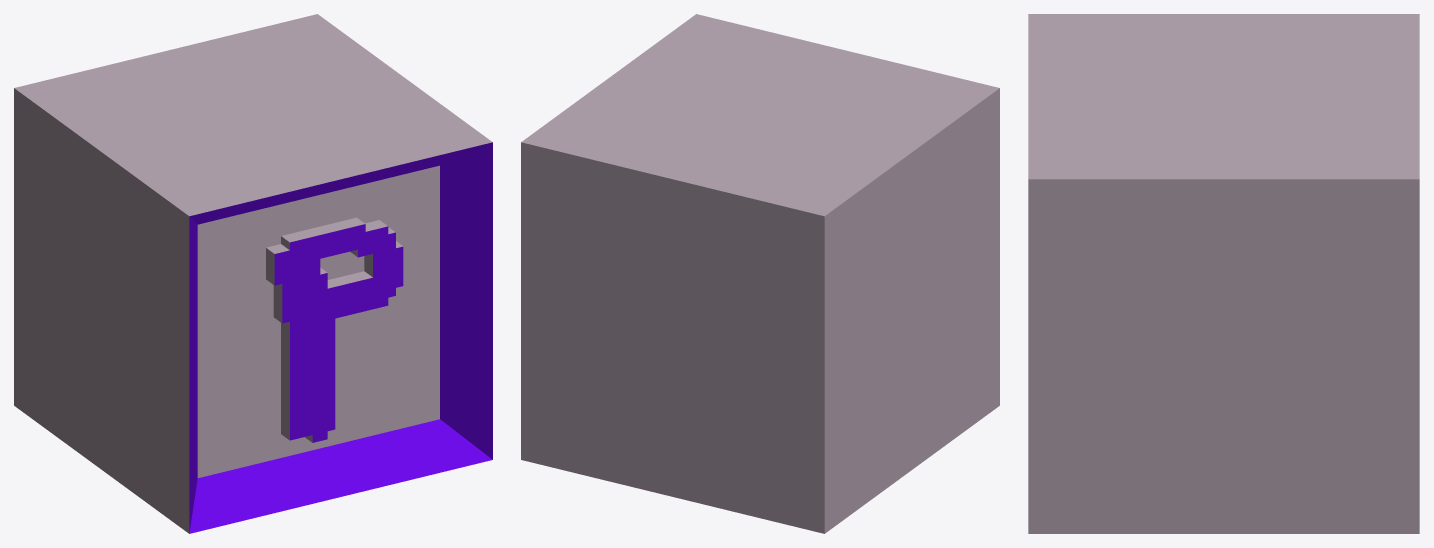
Rendered from BlockE.fbx.
3 renders of one model, left to right at view 1: azimuth 30°, elevation 25°; view 2: azimuth 150°, elevation 25°; view 3: azimuth 270°, elevation 25°, orthographic. The views are drawn at different scales.
Visible parts, largest first — view 1: Cube; view 2: Cube; view 3: Cube.
Part boxes in pixels (x1=…): Cube: x1=14, y1=14, x2=492, y2=533; Cube: x1=521, y1=14, x2=999, y2=533; Cube: x1=1028, y1=14, x2=1419, y2=533.
Size of the model in its own units: 2000 by 2000 by 2000.
